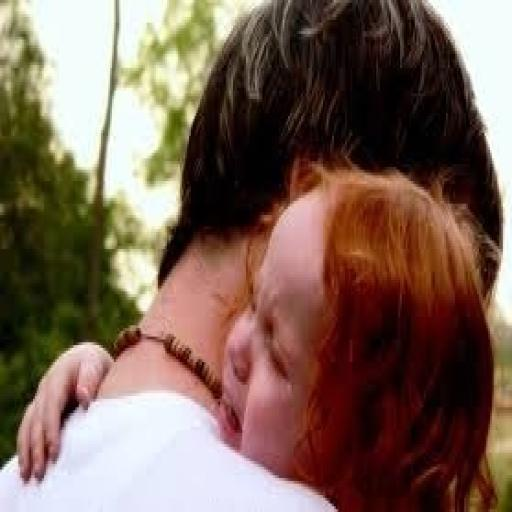hugging: (0, 0, 505, 509)
